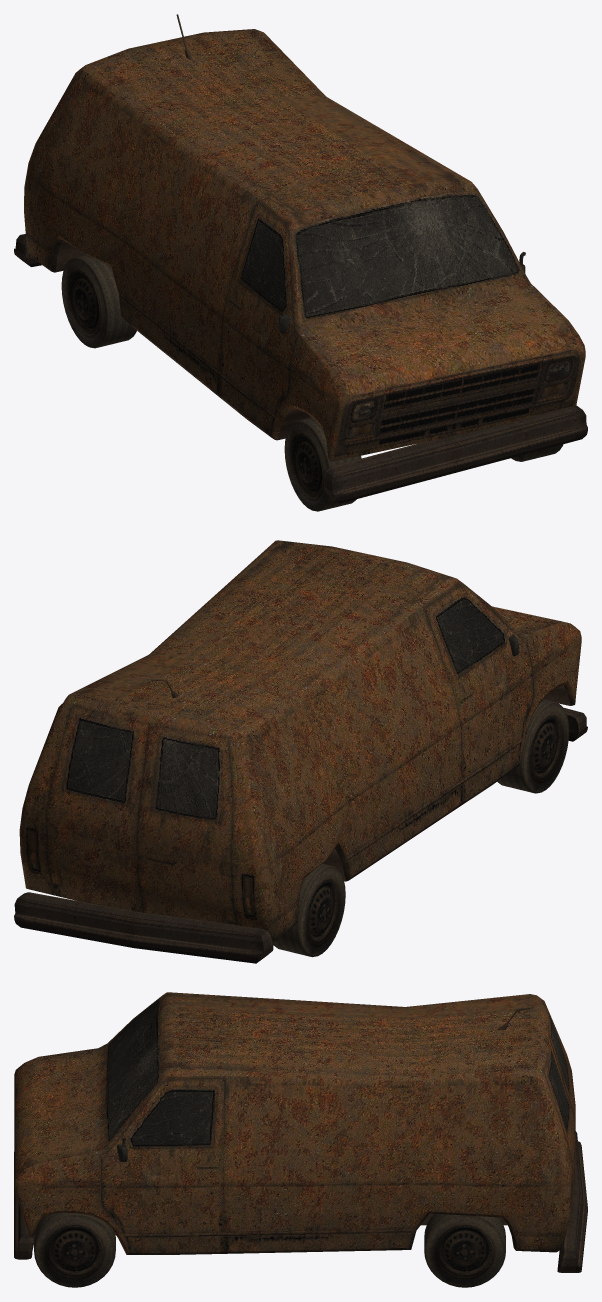
The model's file is van_3.glb.
The picture shows the model from 3 angles, top to bottom: view 1: azimuth 30°, elevation 25°; view 2: azimuth 150°, elevation 25°; view 3: azimuth 270°, elevation 25°; orthographic projection. The views are drawn at different scales.
Parts seen in each view (by area): view 1: van_3, van_3_wheel_rr, van_3_wheel_fr; view 2: van_3, van_3_wheel_rr, van_3_wheel_fr; view 3: van_3, van_3_wheel_rl, van_3_wheel_fl.
Part boxes in pixels (<box>): van_3: <box>14,14,587,503</box>; van_3_wheel_rr: <box>61,254,136,348</box>; van_3_wheel_fr: <box>284,417,361,511</box>; van_3: <box>14,540,587,963</box>; van_3_wheel_rr: <box>273,863,345,957</box>; van_3_wheel_fr: <box>497,699,569,793</box>; van_3: <box>14,992,587,1272</box>; van_3_wheel_rl: <box>424,1213,505,1287</box>; van_3_wheel_fl: <box>34,1213,115,1287</box>.
Size of the model in its own units: 2.84 by 2.89 by 6.34.
Materials: 2 (2 with a texture image).
